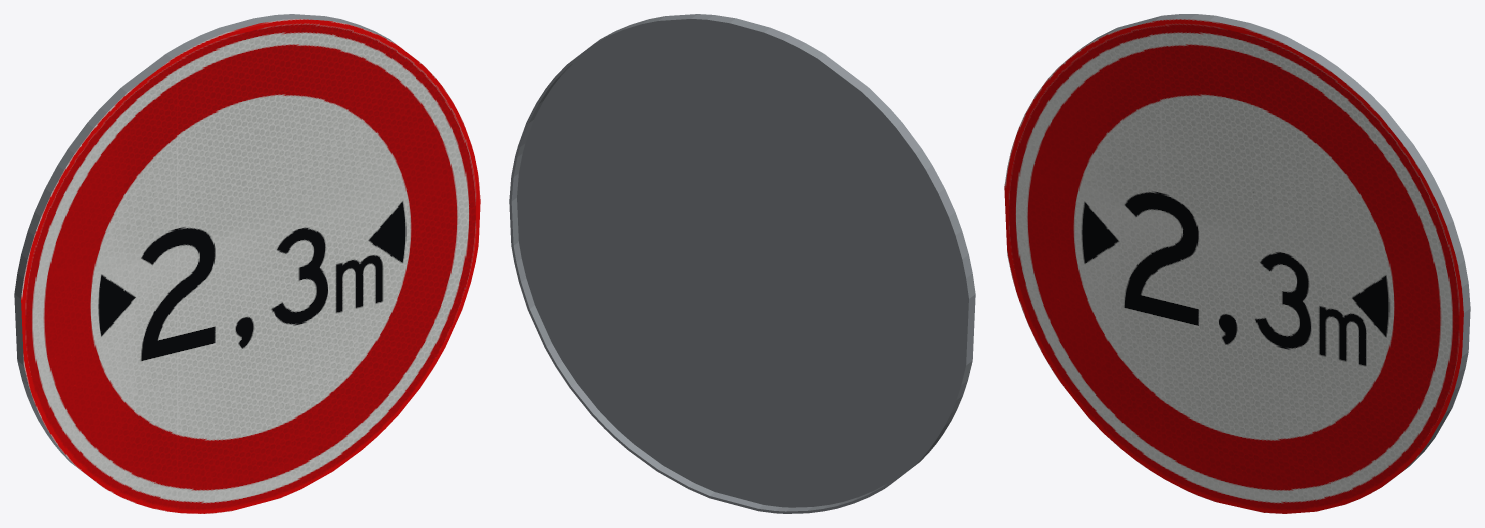
3 views of the same model, side by side, from view 1: azimuth 30°, elevation 25°; view 2: azimuth 150°, elevation 25°; view 3: azimuth 330°, elevation 25° (orthographic).
Parts seen in each view (by area): view 1: cat_386c35a5b036647a; view 2: cat_386c35a5b036647a; view 3: cat_386c35a5b036647a.
Boxes of the visible parts, x1,y1,x2,y2 form: cat_386c35a5b036647a: [14, 14, 480, 513]; cat_386c35a5b036647a: [509, 14, 975, 513]; cat_386c35a5b036647a: [1004, 14, 1470, 513].
Bounding box in the file's own units: 0.6 × 0.015 × 0.6.
Materials: 2 (1 with a texture image).
